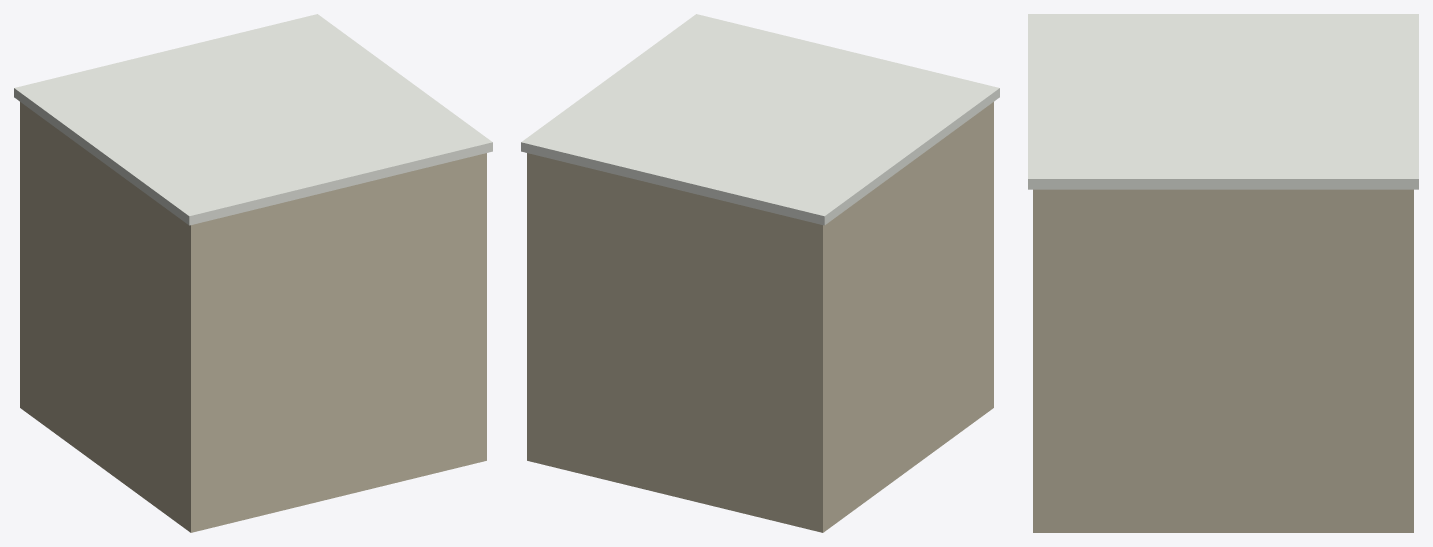
Rendered from building_sand.glb.
3 renders of one model, left to right at view 1: azimuth 30°, elevation 25°; view 2: azimuth 150°, elevation 25°; view 3: azimuth 270°, elevation 25°, orthographic. The views are drawn at different scales.
Parts seen in each view (by area): view 1: building_sand; view 2: building_sand; view 3: building_sand.
Boxes of the visible parts, x1,y1,x2,y2 form: building_sand: (14, 14, 492, 532); building_sand: (521, 14, 999, 532); building_sand: (1028, 14, 1418, 532).
Size of the model in its own units: 1.02 by 1.03 by 1.02.
